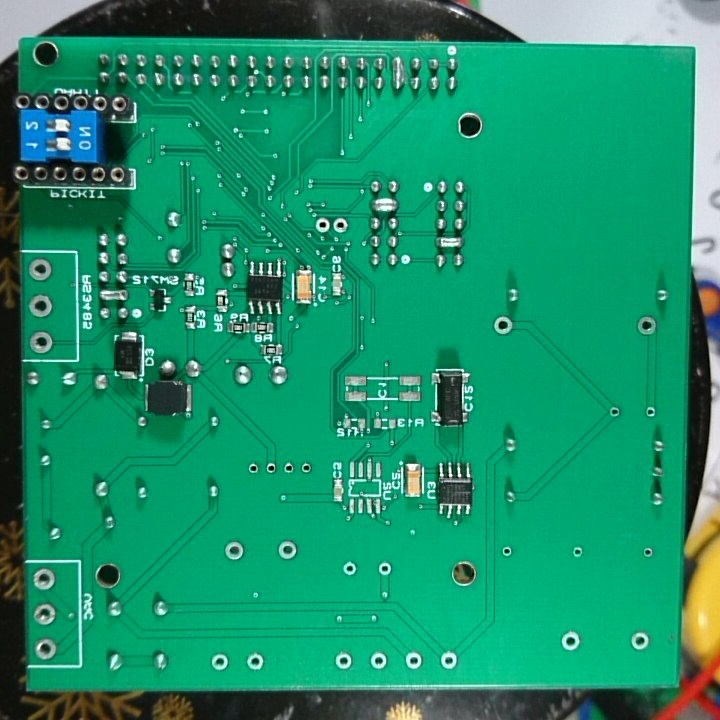F: (32, 632, 64, 663), (25, 253, 54, 285), (27, 291, 56, 320), (27, 329, 58, 356), (31, 566, 58, 594), (633, 312, 661, 338), (221, 538, 250, 563), (558, 629, 584, 655), (491, 314, 519, 337), (31, 600, 60, 622), (276, 538, 300, 563), (209, 649, 232, 675), (629, 629, 650, 656), (244, 649, 267, 672), (438, 647, 459, 672), (368, 649, 390, 672), (330, 215, 351, 238), (333, 648, 354, 670), (498, 543, 519, 563), (341, 560, 361, 580), (402, 650, 423, 669), (376, 560, 394, 580), (642, 403, 658, 423), (315, 217, 333, 234), (299, 458, 315, 477), (606, 404, 623, 421), (640, 543, 656, 561), (247, 460, 263, 478), (265, 460, 279, 478), (282, 460, 296, 478), (570, 544, 581, 560)
P: (387, 53, 407, 95), (433, 232, 464, 252), (96, 288, 133, 304), (369, 196, 401, 213)
